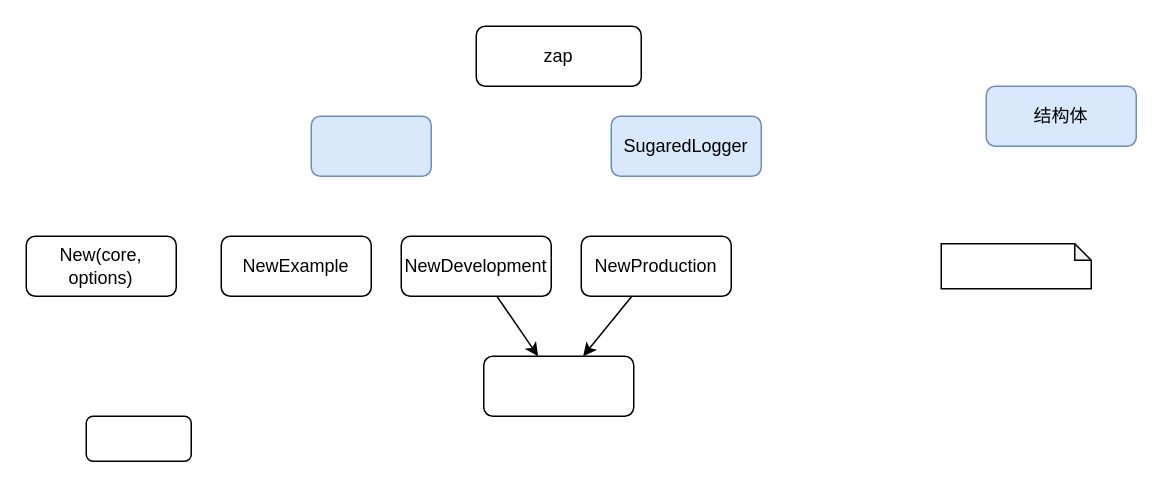
The diagram is 1163 pixels wide and 488 high, and some of its shapes have lost their labels. Each missing label, with the box of its shape:
Config: (482, 355, 634, 416)
Encoder: (85, 415, 191, 461)
EncoderConfig: (940, 242, 1091, 289)
Logger: (310, 115, 431, 176)
